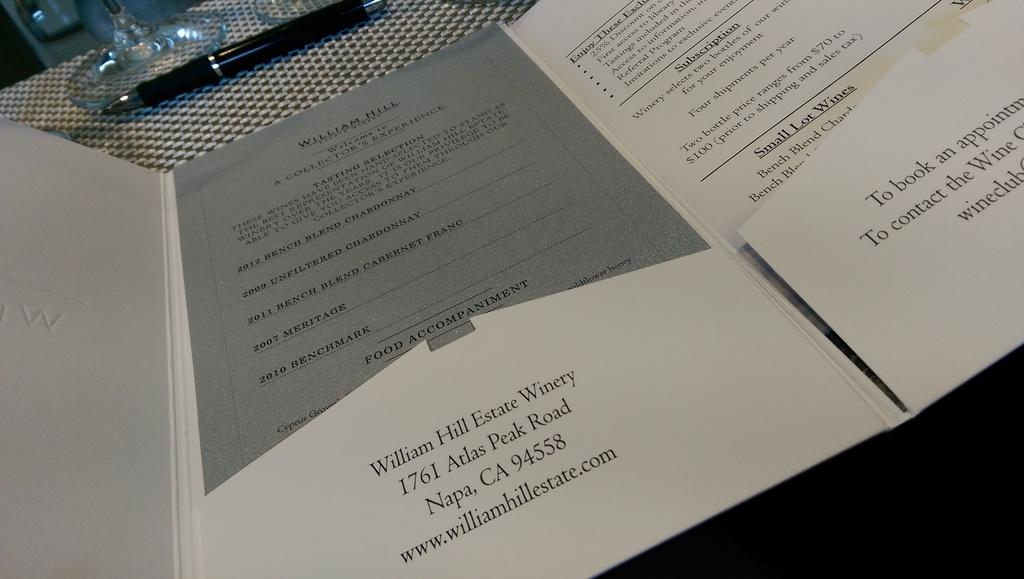pen: (102, 0, 388, 113)
